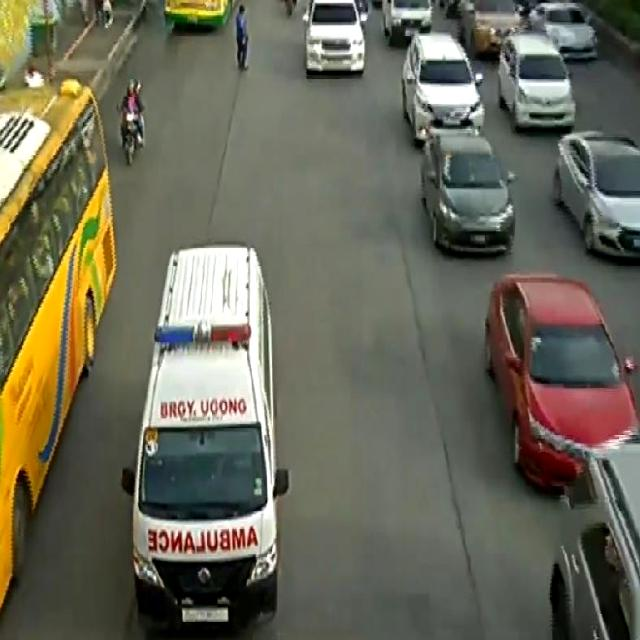emergency: (122, 242, 293, 634)
